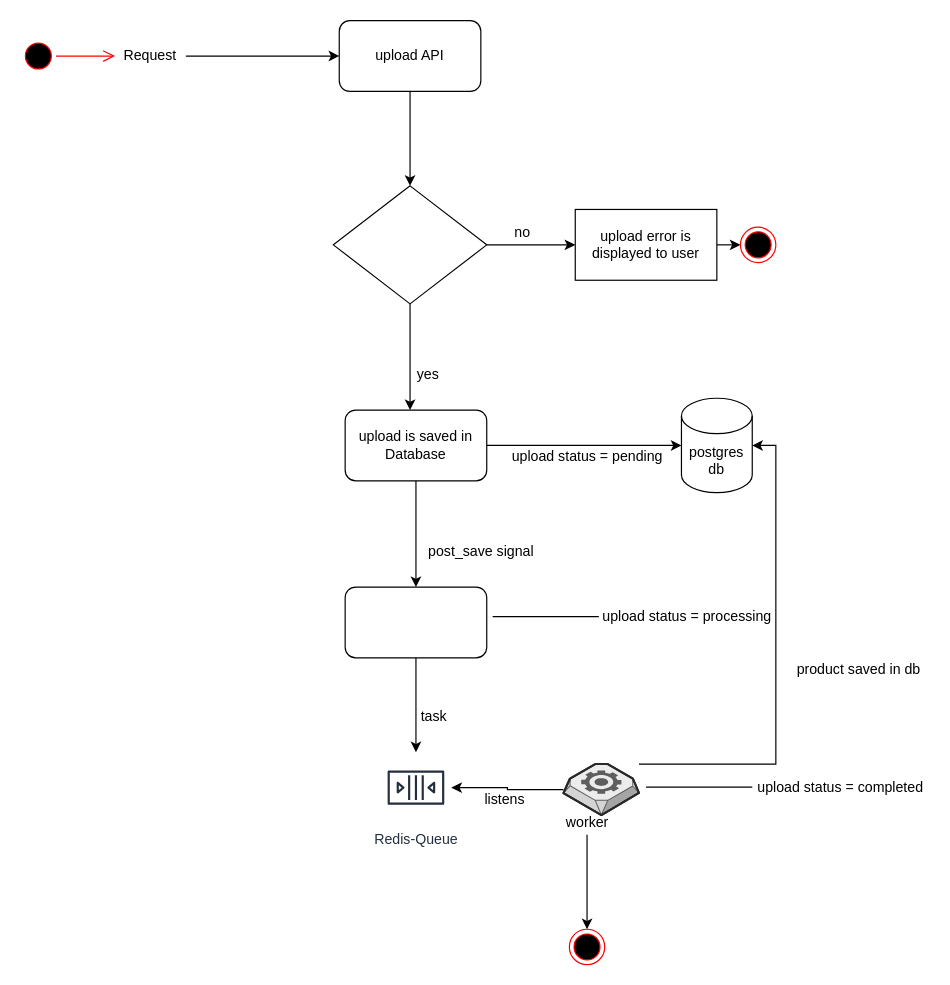
Image size: 950x985. Some labels were removed from this diagram. Here are the shapes that lost their labels. From the top down, the box of each, then its label:
(332, 185, 487, 304): Initial header check. Passed ?
(344, 586, 487, 658): change file status trigger async task
